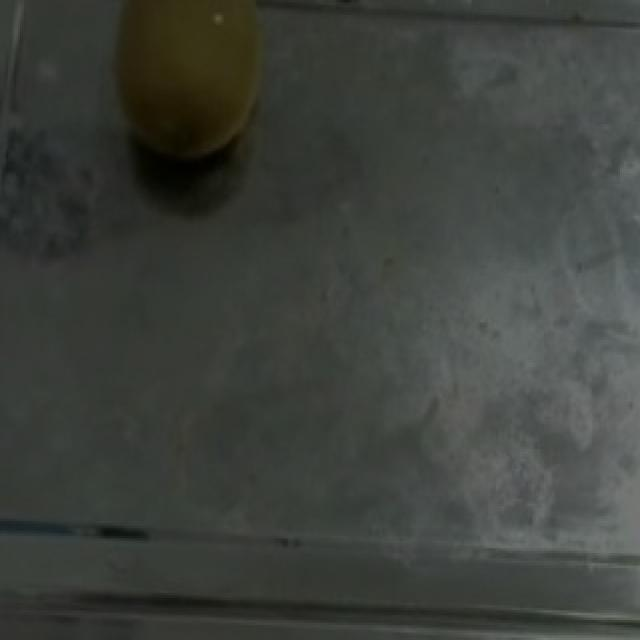Fruit: (80, 0, 292, 171)
